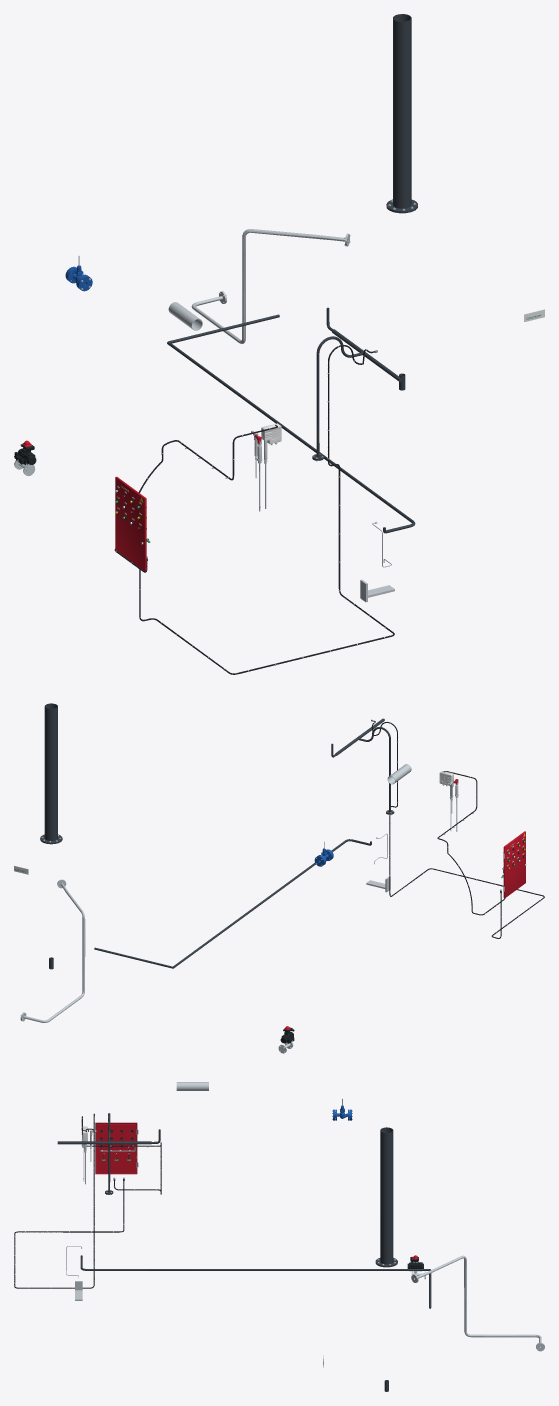
3 views of the same model, one above another, from view 1: azimuth 30°, elevation 25°; view 2: azimuth 150°, elevation 25°; view 3: azimuth 270°, elevation 25° (orthographic). The views are drawn at different scales.
Visible parts, largest first — view 1: bdv_vent / dark, cabinet_door / cabinet_door_5.npz, wiring_pressure_switch_2 / black, trap_gap_to_bdv / steel, tds_common / dark, pressure_header / dark; view 2: bdv_vent / dark, cabinet_door / cabinet_door_5.npz, wiring_pressure_switch_2 / black, trap_gap_to_bdv / steel, tds_common / dark, pressure_header / dark; view 3: cabinet_door / cabinet_door_5.npz, bdv_vent / dark, wiring_pressure_switch_2 / black, trap_gap_to_bdv / steel, tds_common / dark, pressure_header / dark.
Part boxes in pixels (x1,y1,x2,y2): bdv_vent / dark: (386,14,417,213); cabinet_door / cabinet_door_5.npz: (115,476,146,571); wiring_pressure_switch_2 / black: (139,345,394,674); trap_gap_to_bdv / steel: (191,229,350,343); tds_common / dark: (167,341,415,533); pressure_header / dark: (312,307,402,460); bdv_vent / dark: (40,703,62,844); cabinet_door / cabinet_door_5.npz: (503,831,526,898); wiring_pressure_switch_2 / black: (371,720,544,938); trap_gap_to_bdv / steel: (20,879,85,1022); tds_common / dark: (173,839,371,968); pressure_header / dark: (331,718,394,814); cabinet_door / cabinet_door_5.npz: (95,1122,138,1174); bdv_vent / dark: (375,1127,397,1267); wiring_pressure_switch_2 / black: (14,1114,124,1288); trap_gap_to_bdv / steel: (411,1255,544,1351); tds_common / dark: (80,1255,429,1270); pressure_header / dark: (57,1113,160,1194).
Size of the model in its own units: 5.82 by 3.78 by 6.74.
